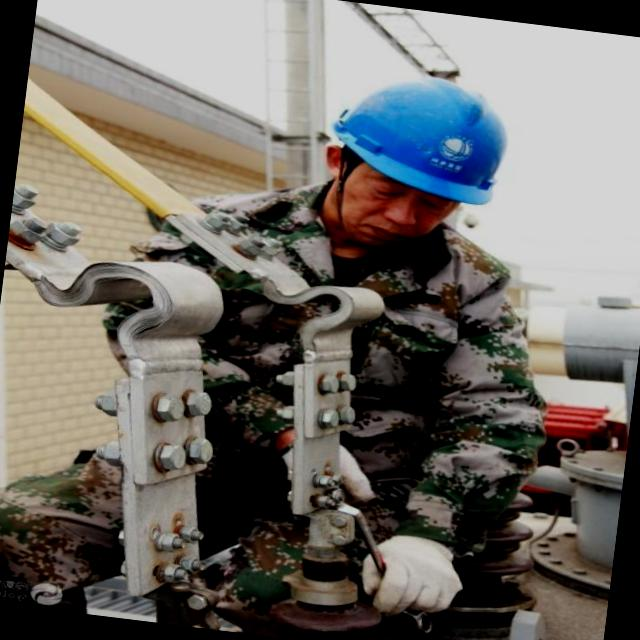helmet: (307, 68, 516, 225)
no-vest: (186, 207, 517, 486)
